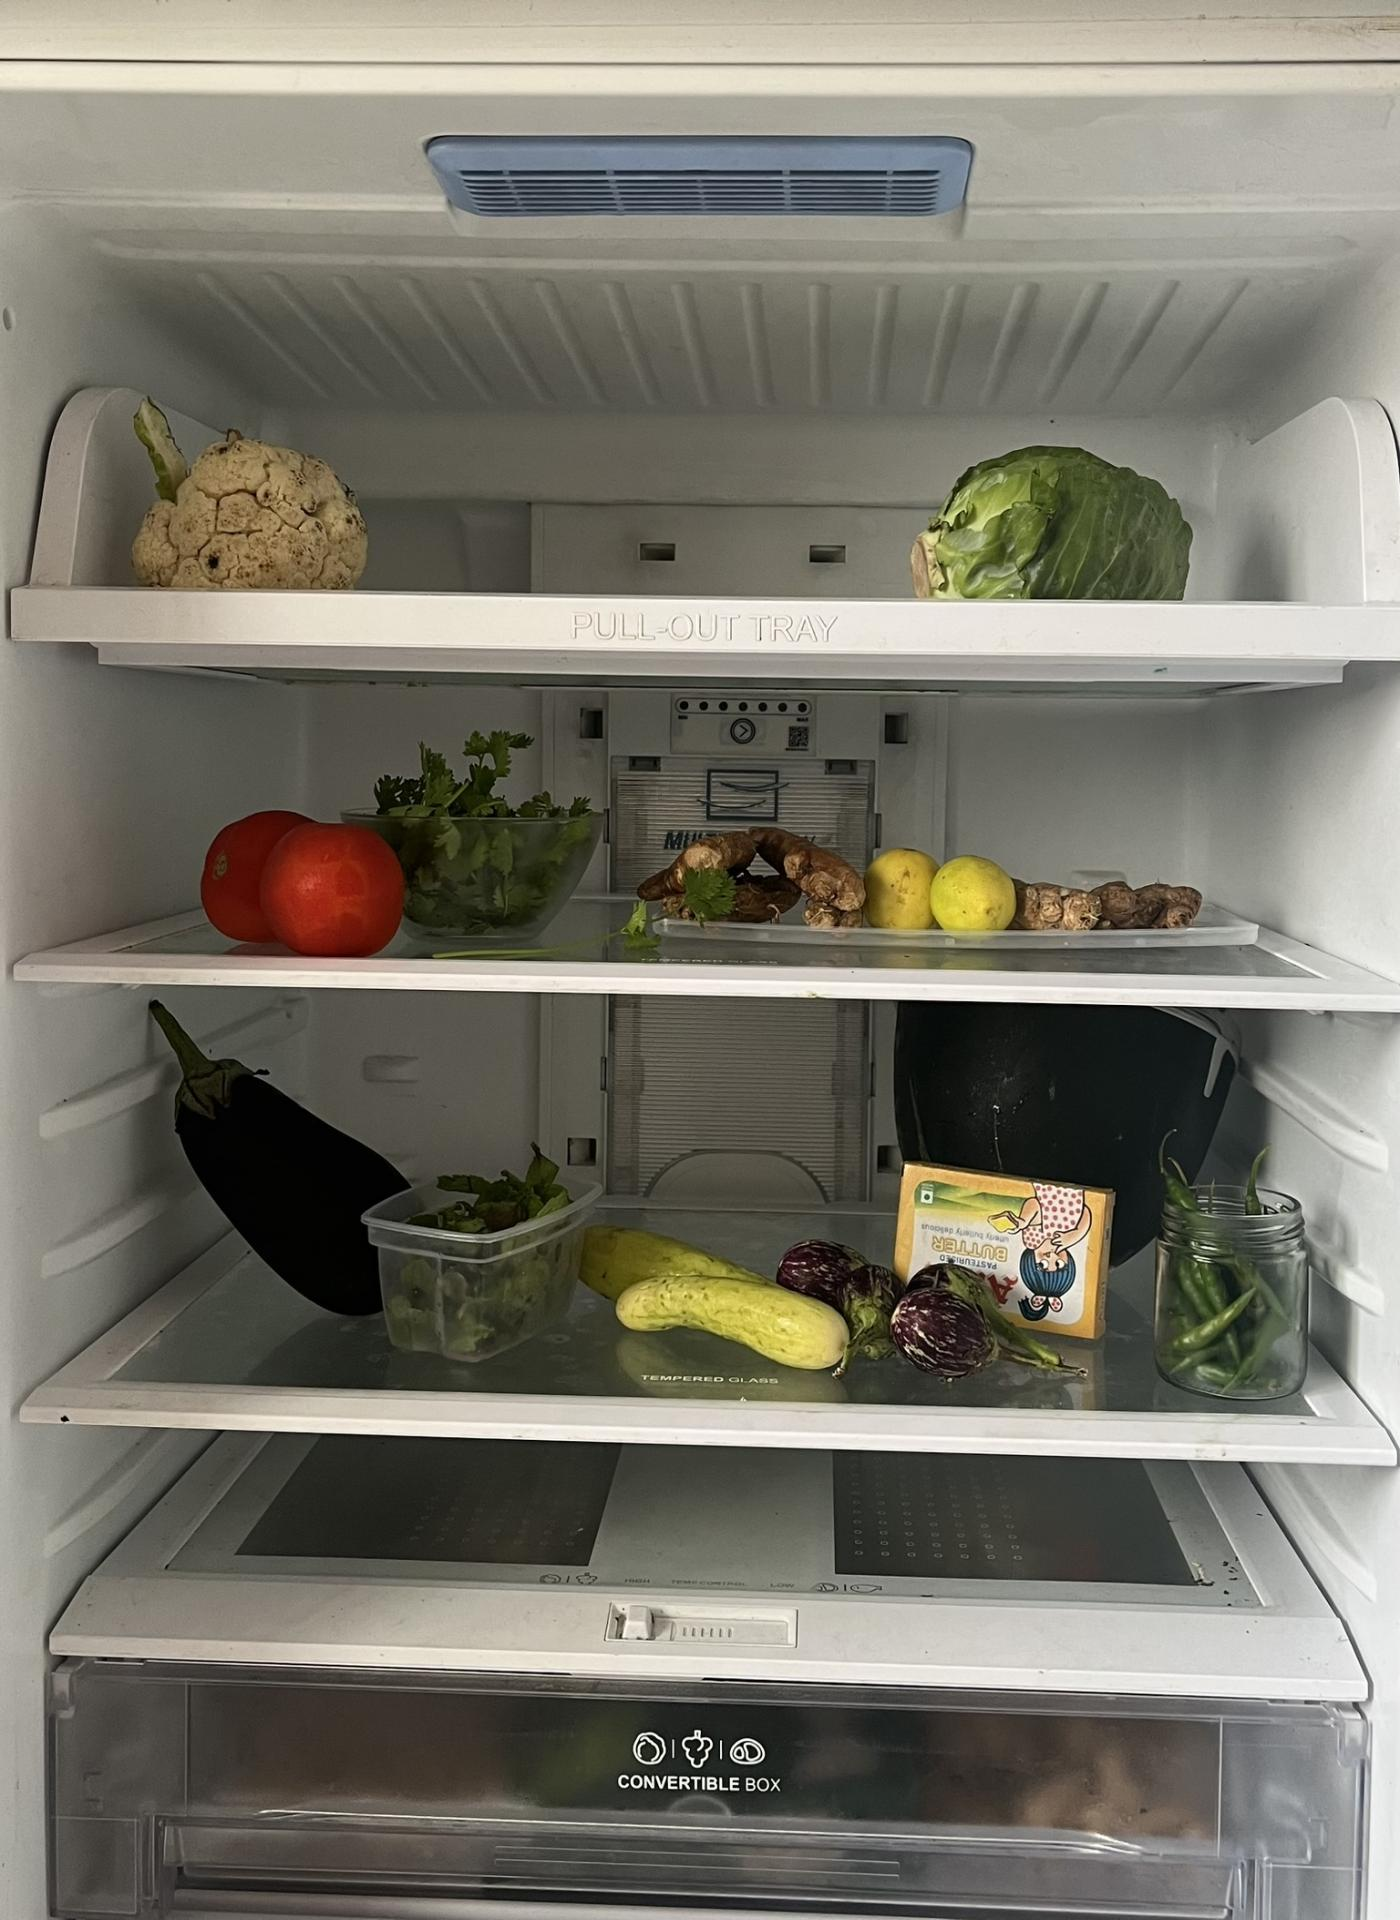basil: (385, 1145, 583, 1351)
brinjal: (157, 1002, 429, 1319), (778, 1236, 1073, 1379)
butter: (895, 1170, 1105, 1330)
cabbage: (911, 437, 1200, 611)
cauliflower: (130, 432, 359, 580)
chillies: (1167, 1145, 1303, 1389)
coriander: (376, 719, 590, 924)
cucumber: (584, 1230, 853, 1373)
ginger: (652, 820, 860, 893), (1015, 881, 1199, 935)
lemon: (860, 851, 1014, 939)
tomato: (201, 812, 397, 942)
watermelon: (892, 994, 1240, 1263)
